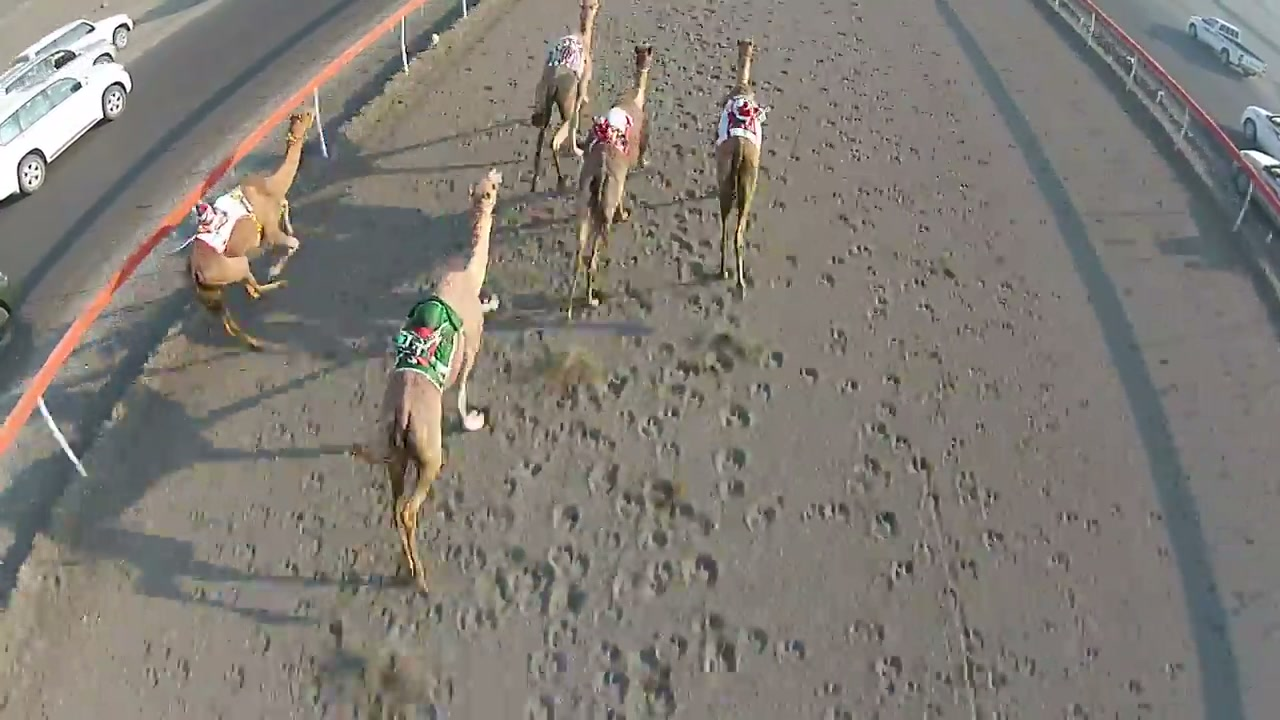animal_footprint: (788, 0, 1088, 711), (448, 117, 788, 719), (144, 346, 544, 717)
